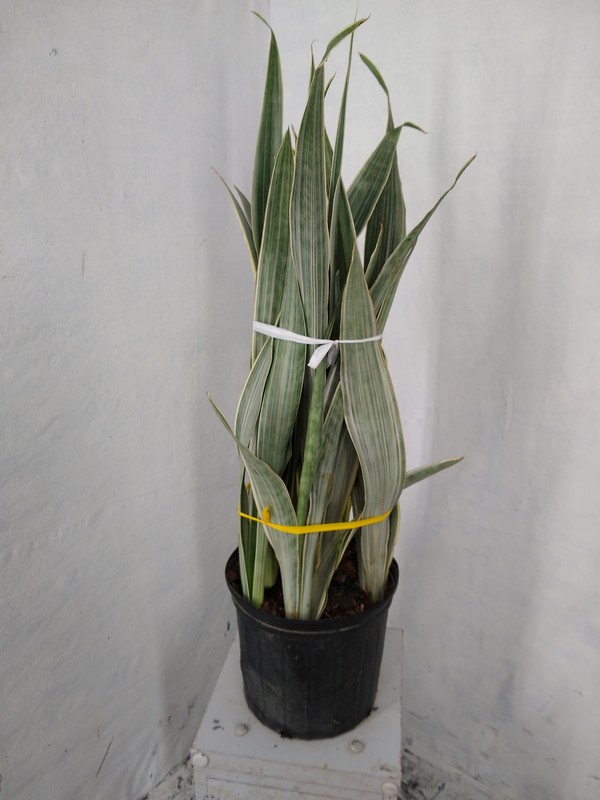plant: (210, 9, 477, 624)
pot: (224, 543, 401, 742)
